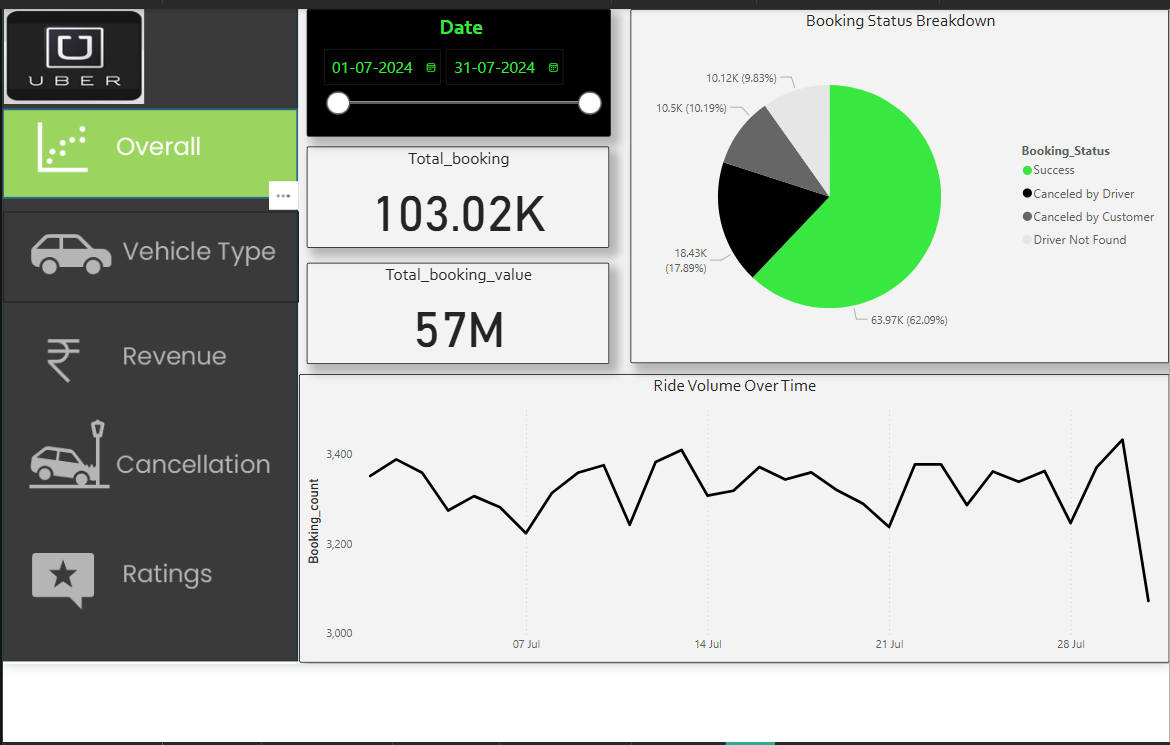

What the dashboard file says about the page in this screenshot:
{"tool":"powerbi","page":{"name":"Overall","canvas":[1280,720],"ordinal":0},"visuals":[{"type":"actionButton","box":[0,222,324.5,100.1],"z":0},{"type":"actionButton","box":[0,339,324.5,100.1],"z":1000},{"type":"actionButton","box":[0,450,324.5,100.1],"z":2000},{"type":"actionButton","box":[0,576.7,324.5,100.1],"z":3000},{"type":"lineChart","title":"Ride Volume Over Time","fields":{"Y":["CountNonNull(July.Booking_ID)"],"Category":["July.Date"]},"box":[325,400.5,955,316.4],"z":4000},{"type":"pieChart","title":"Booking Status Breakdown","fields":{"Category":["July.Booking_Status"],"Y":["CountNonNull(July.Booking_Status)"]},"box":[688.5,0,591.5,389.1],"z":5000},{"type":"slicer","title":"Date","fields":{"Values":["July.Date"]},"box":[333.4,0,333.4,140],"z":6000},{"type":"card","title":"Total_booking","fields":{"Values":["Count(July.Booking_ID)"]},"box":[333.5,151.1,332.1,111.2],"z":7000},{"type":"card","title":"Total_booking_value","fields":{"Values":["Sum(July.Booking_Value)"]},"box":[333.5,278,332.1,111.2],"z":8000}]}

Visuals, with their boxes on the page's 1280x720 design canvas (x1, y1, x2, y2). These are canvas units, not pixel positions in the 1170x745 screenshot, which may show the page scaled, cropped or inside an application window:
actionButton: <box>0,222,324,322</box>
actionButton: <box>0,339,324,439</box>
actionButton: <box>0,450,324,550</box>
actionButton: <box>0,577,324,677</box>
"Ride Volume Over Time" lineChart: <box>325,400,1280,717</box>
"Booking Status Breakdown" pieChart: <box>688,0,1280,389</box>
"Date" slicer: <box>333,0,667,140</box>
"Total_booking" card: <box>334,151,666,262</box>
"Total_booking_value" card: <box>334,278,666,389</box>
